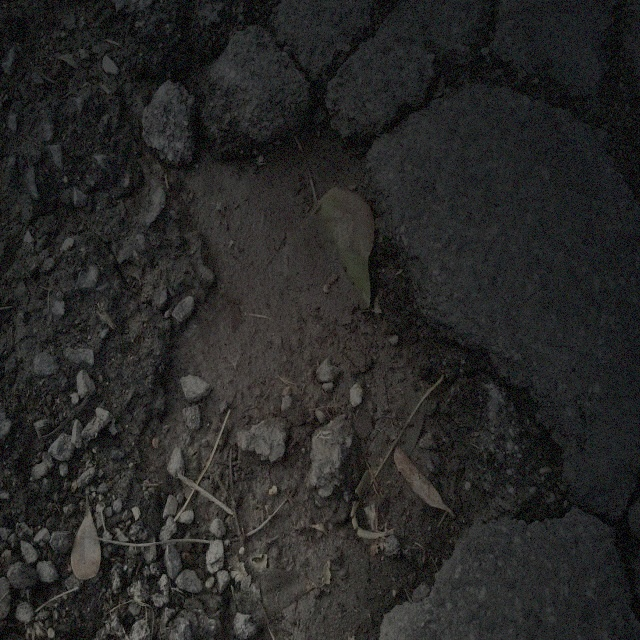pothole: (143, 93, 533, 576)
